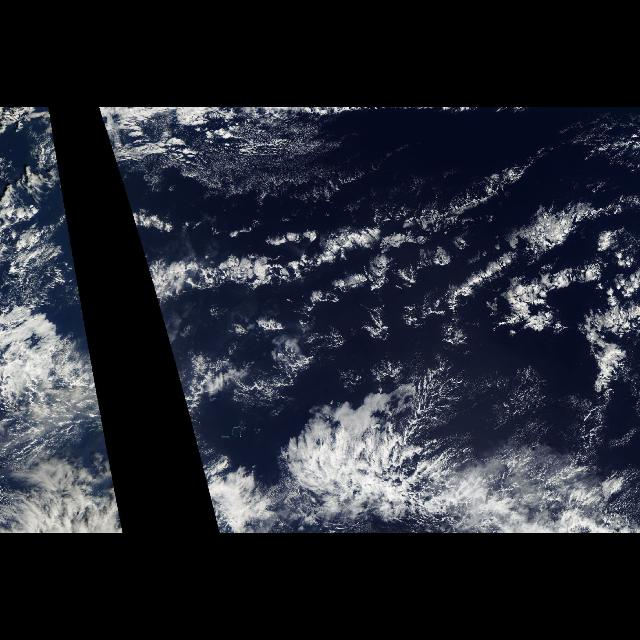Fish: (134, 201, 596, 343), (276, 349, 600, 533)
Flower: (452, 184, 630, 383)
Sugar: (412, 346, 594, 470), (175, 113, 362, 219)
